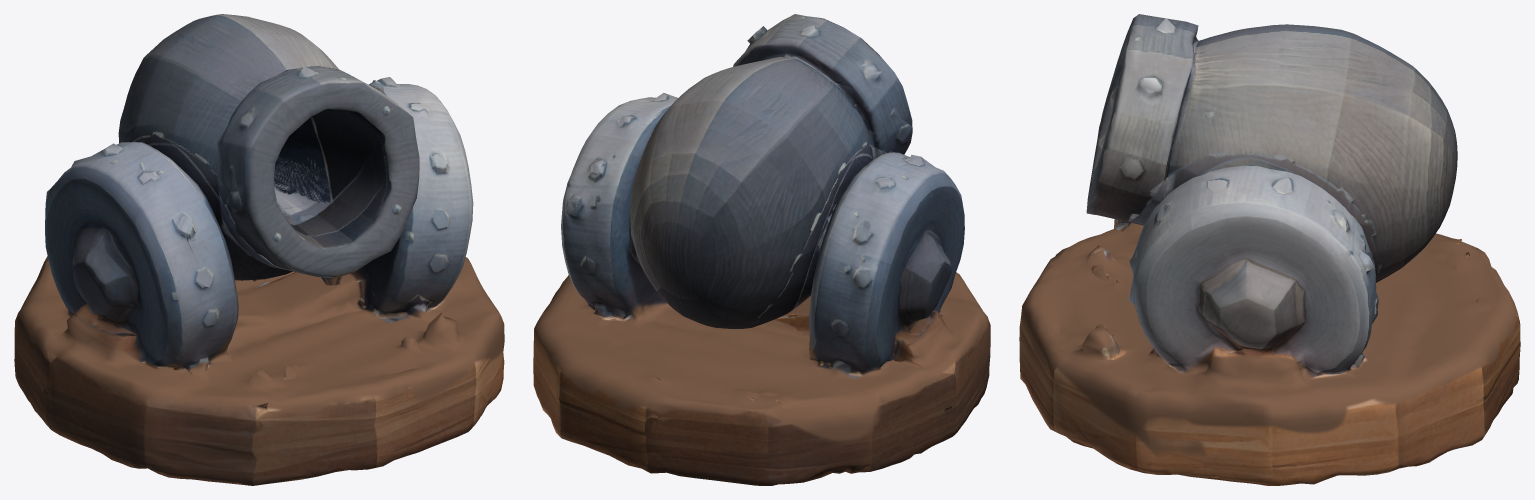
The model's file is Cannon.glb.
3 views of the same model, side by side, from view 1: azimuth 30°, elevation 25°; view 2: azimuth 150°, elevation 25°; view 3: azimuth 270°, elevation 25° (orthographic). The views are drawn at different scales.
Visible parts, largest first — view 1: texture_mapping; view 2: texture_mapping; view 3: texture_mapping.
Boxes of the visible parts, x1,y1,x2,y2 form: texture_mapping: (14, 14, 504, 485); texture_mapping: (533, 14, 990, 485); texture_mapping: (1019, 14, 1520, 485).
Bounding box in the file's own units: 0.979 × 0.7991 × 0.9918.
1 material, 1 textured.
